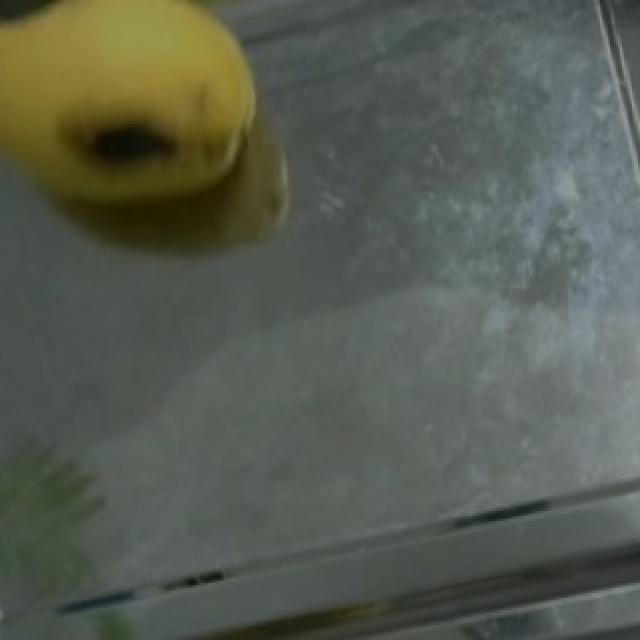fruit: (0, 0, 282, 218)
